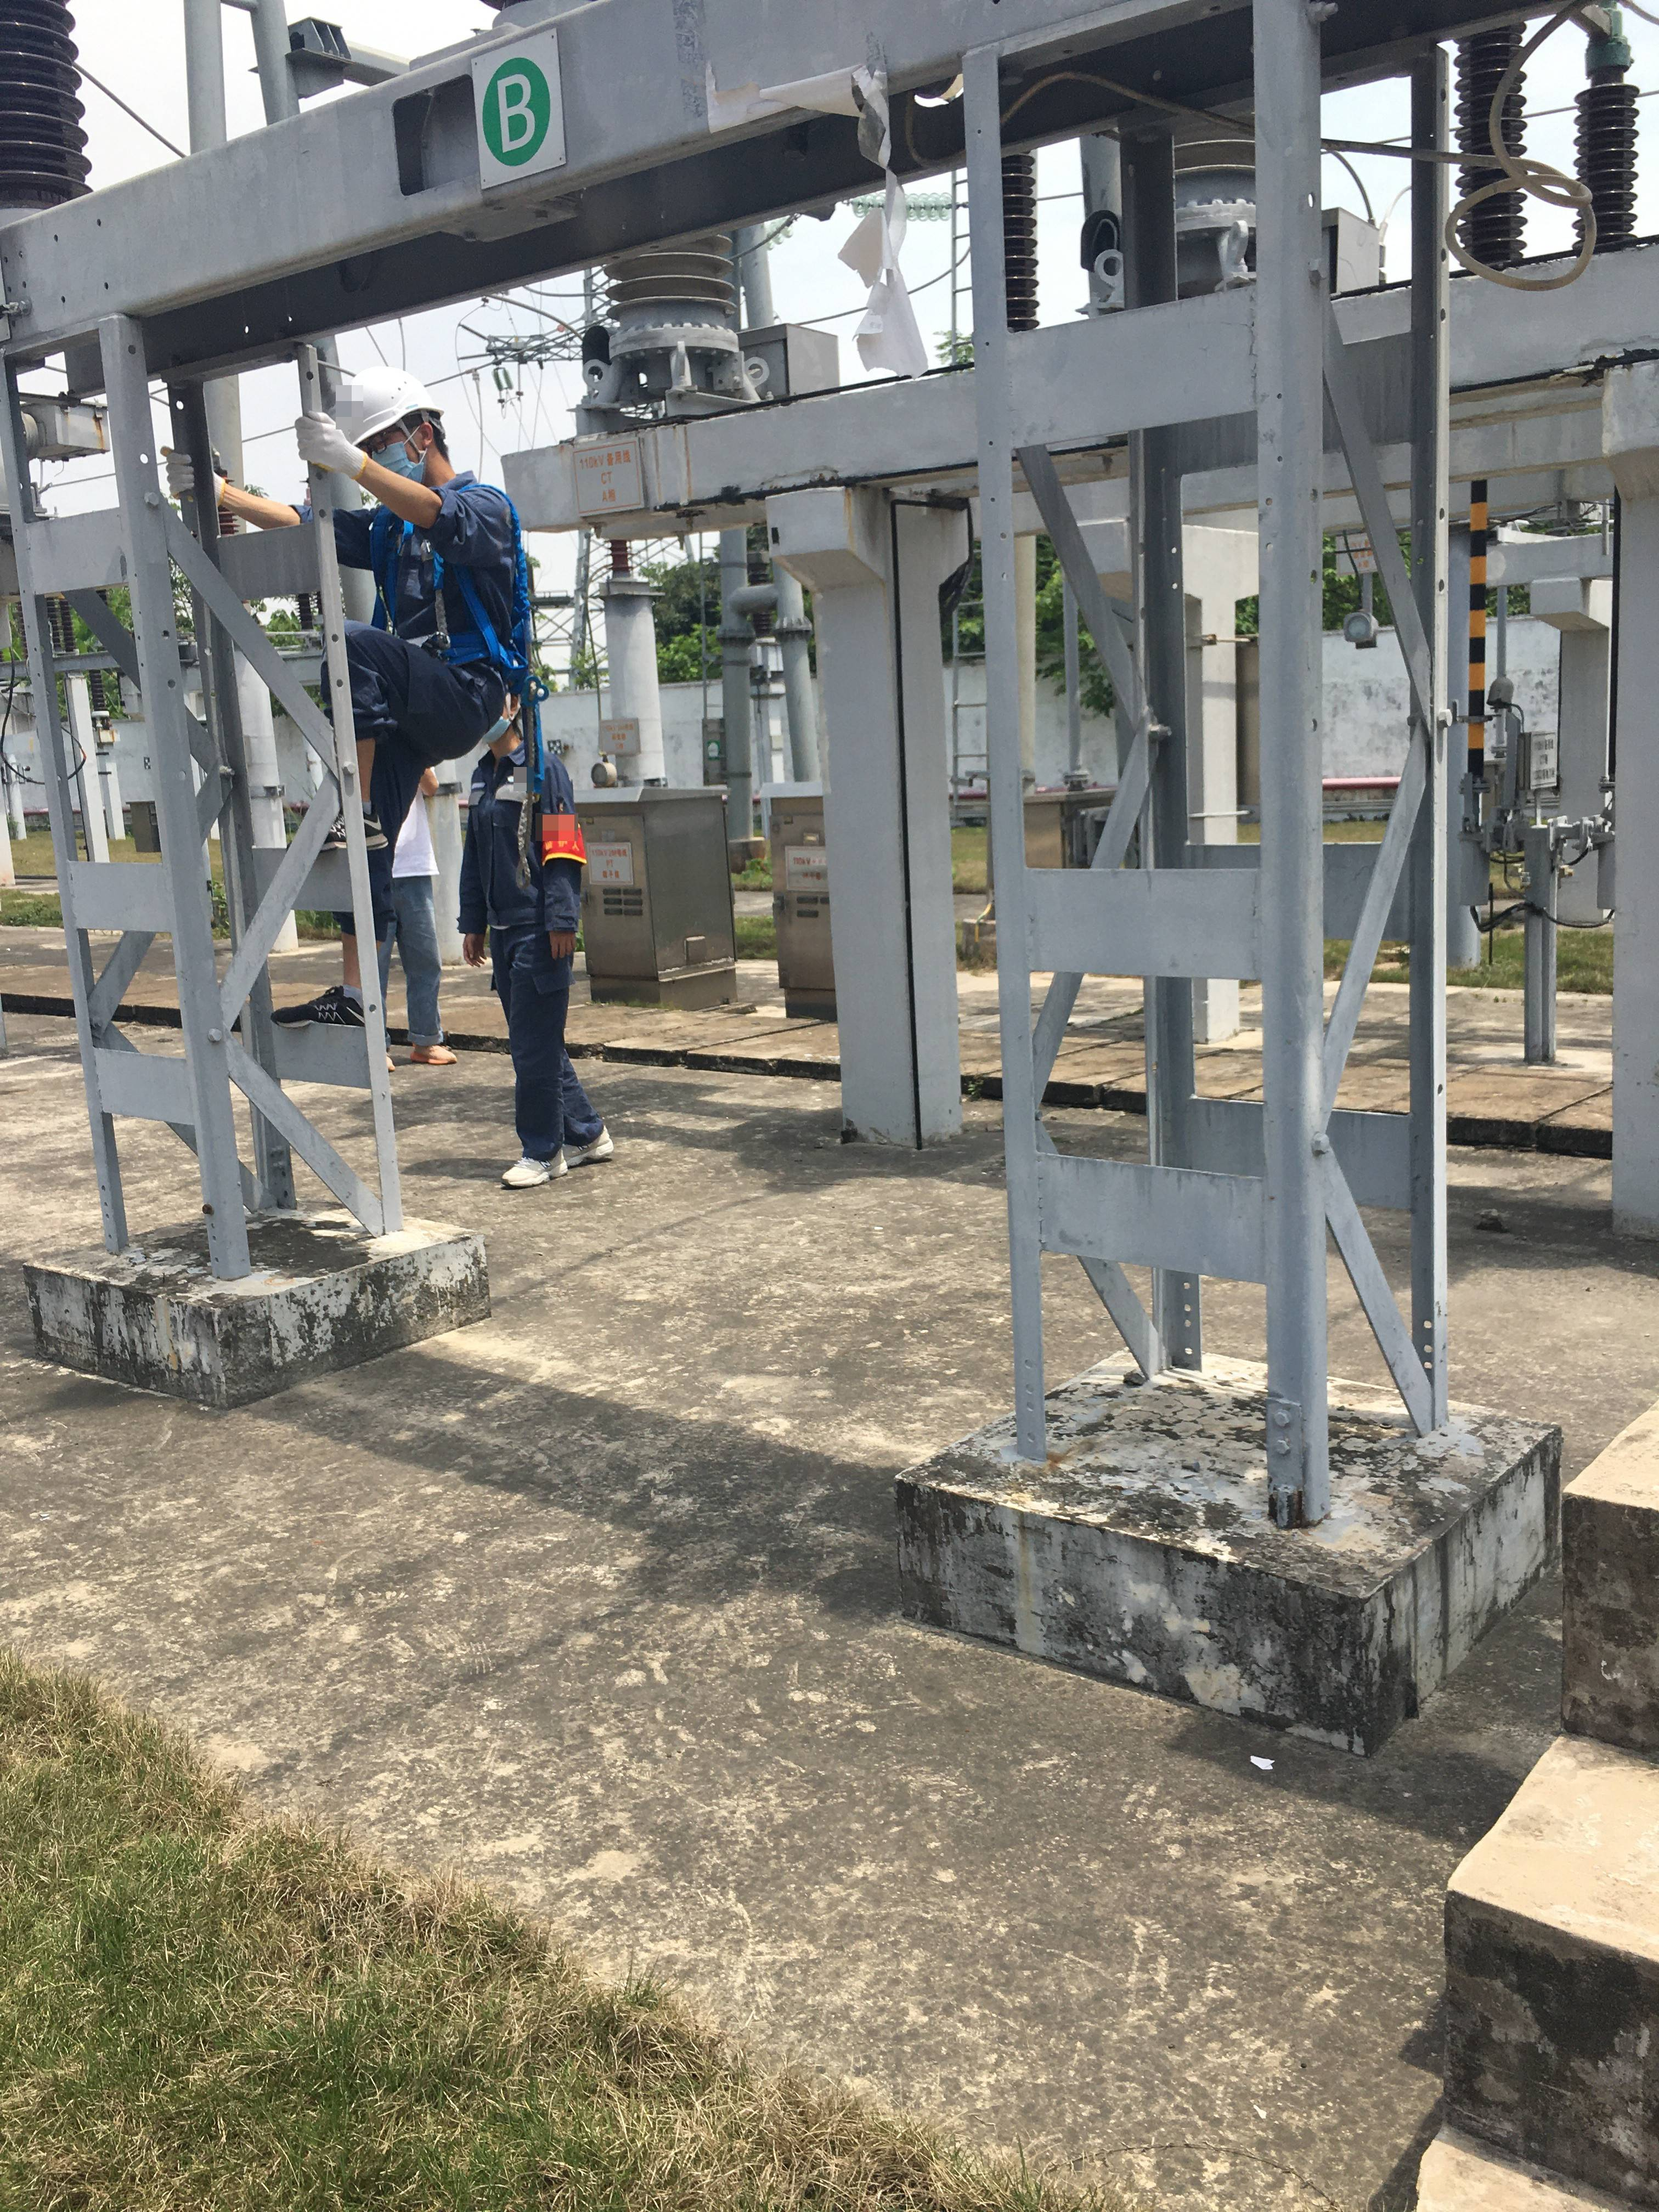downsuit: (340, 641, 497, 911), (495, 948, 591, 1146)
upsuit: (364, 489, 518, 653), (465, 756, 580, 935)
wrongbottom: (352, 700, 385, 812)
wrongtop: (361, 456, 467, 540), (220, 477, 324, 533)
